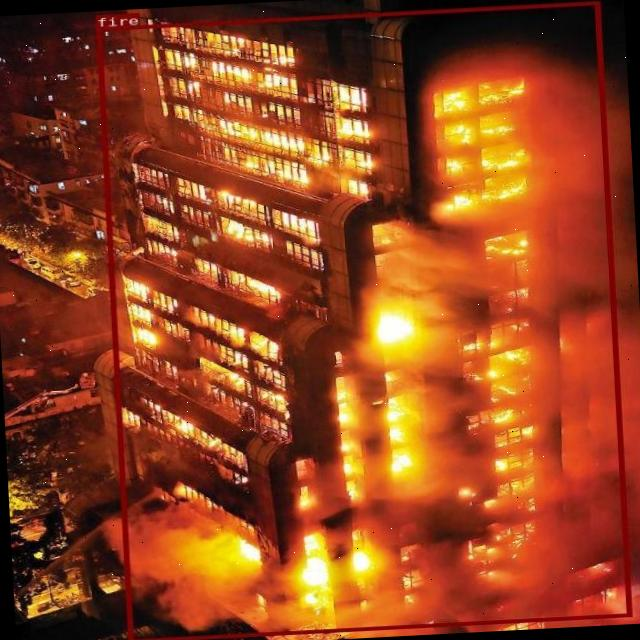fire: (95, 0, 631, 640)
